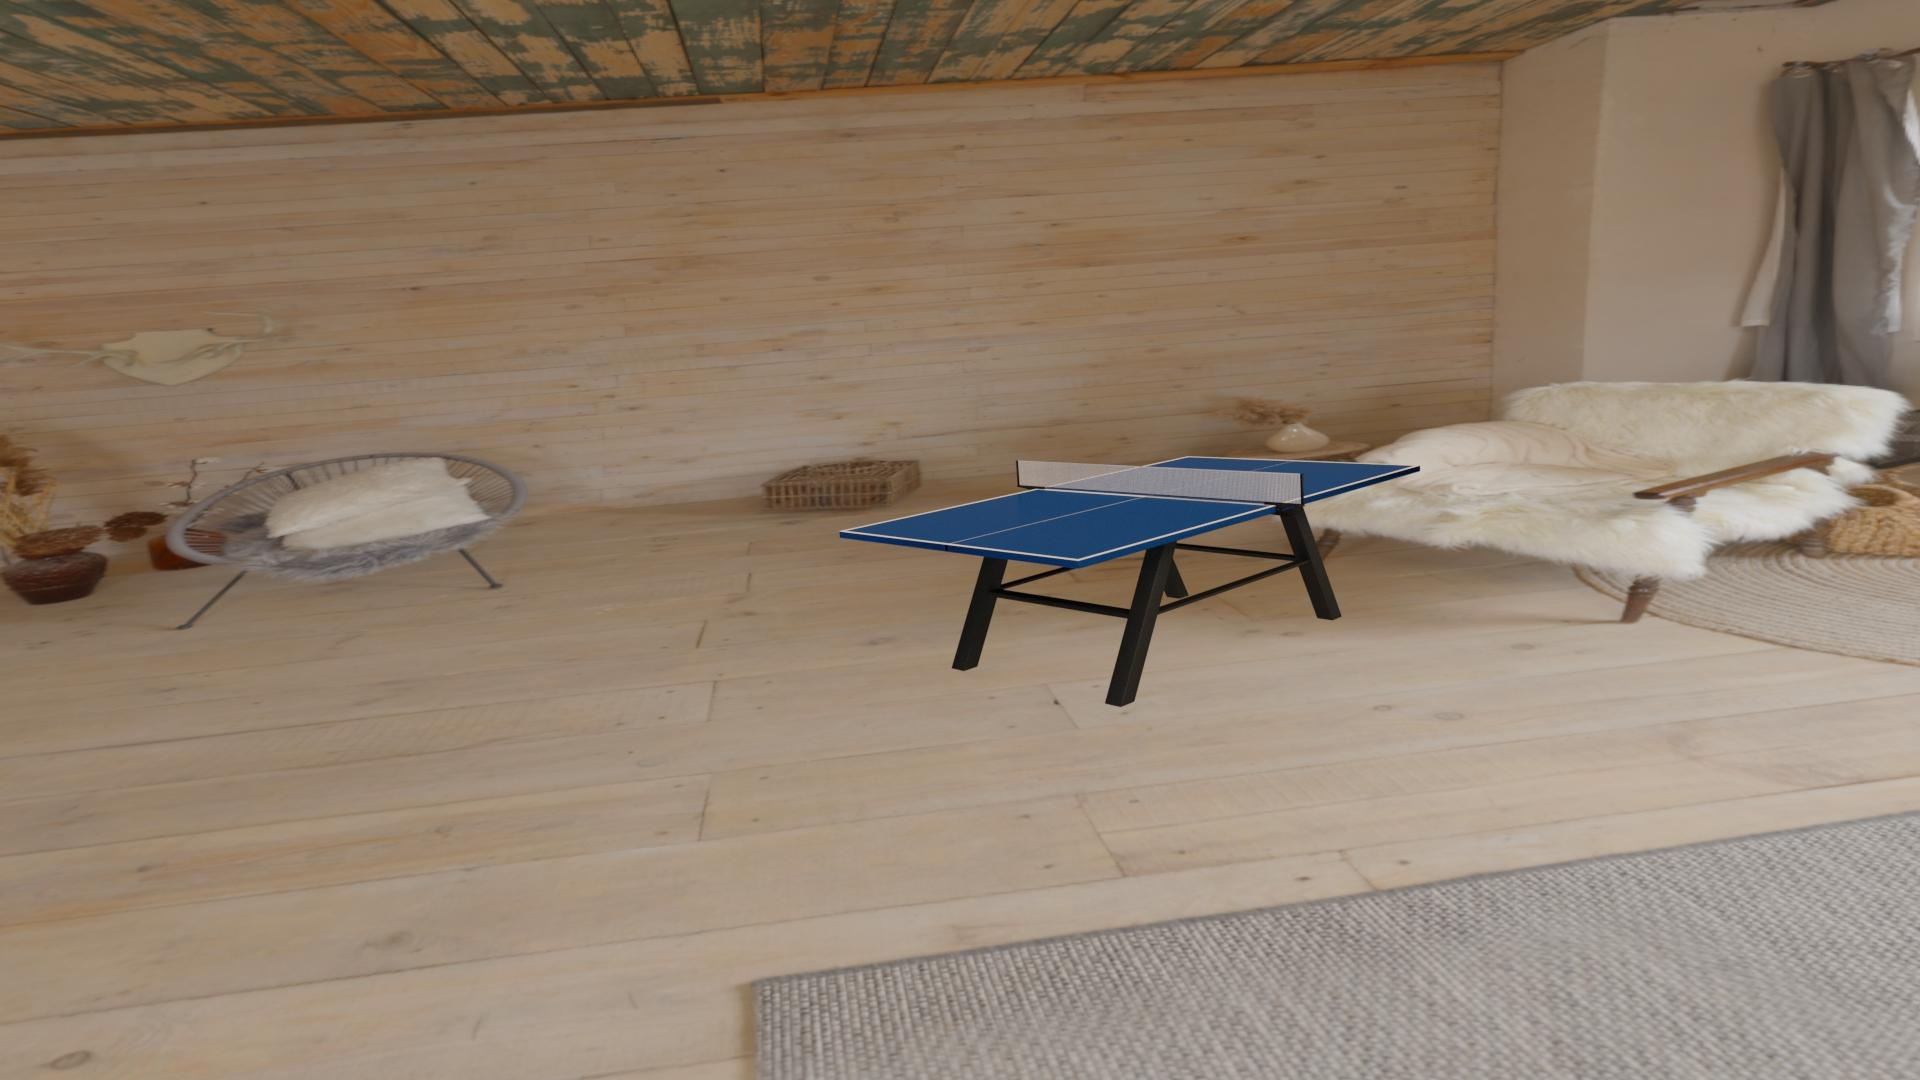table: (845, 458, 1415, 559)
